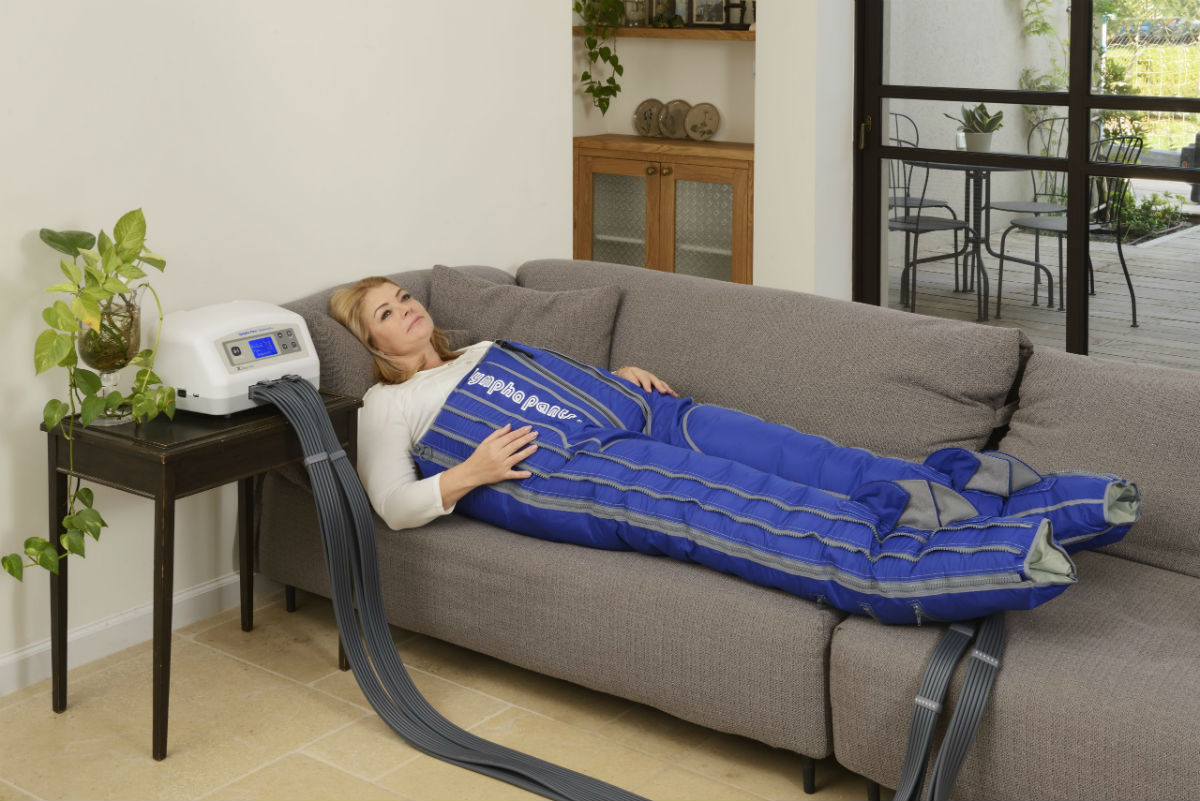chair: (996, 135, 1149, 327), (990, 116, 1100, 295), (881, 141, 985, 327), (880, 114, 960, 294)
door_handle: (854, 115, 872, 153)
handle: (660, 165, 676, 181), (642, 164, 658, 180)
patient: (327, 258, 1138, 615)
sequential_compression: (139, 298, 1138, 801)
sofa: (252, 259, 1200, 801)
table: (38, 387, 365, 763), (904, 151, 1052, 312)
